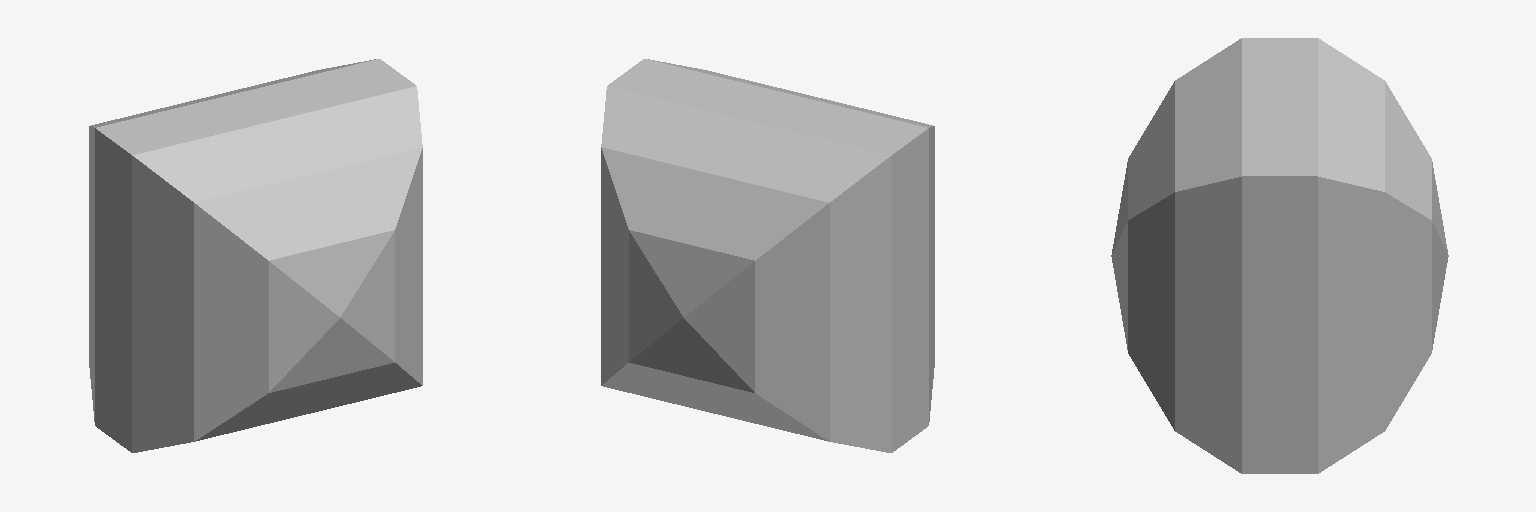
The model's file is snakebody2.obj.
3 renders of one model, left to right at view 1: azimuth 30°, elevation 25°; view 2: azimuth 150°, elevation 25°; view 3: azimuth 270°, elevation 25°, orthographic.
Parts seen in each view (by area): view 1: 柱体.001; view 2: 柱体.001; view 3: 柱体.001.
Boxes of the visible parts, box(x1,y1,x2,y2) form: 柱体.001: box(89, 59, 422, 452); 柱体.001: box(601, 59, 934, 452); 柱体.001: box(1111, 38, 1448, 473).
Bounding box in the file's own units: 2 × 2 × 2.05.